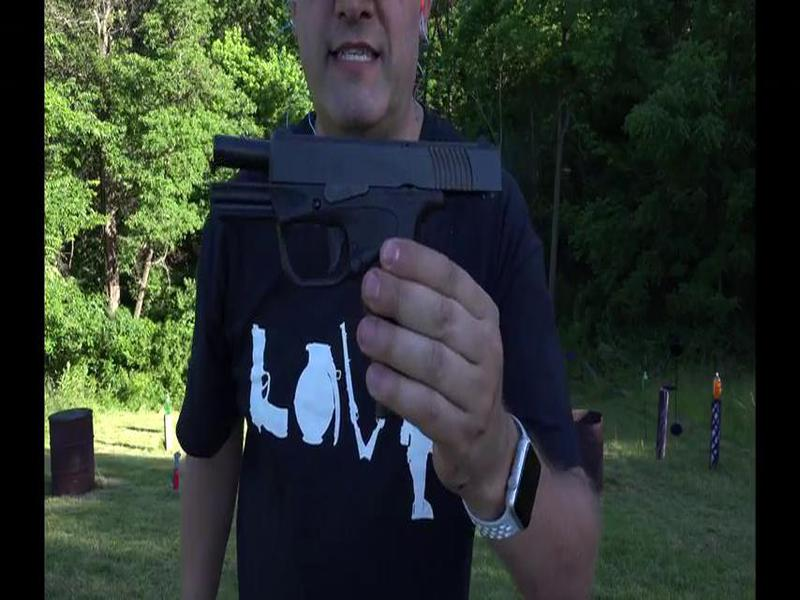Pistola: (187, 119, 514, 364)
